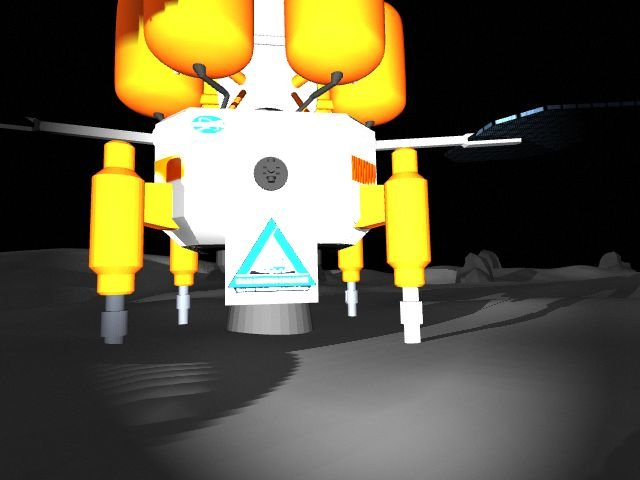basemarker: (227, 217, 317, 293)
